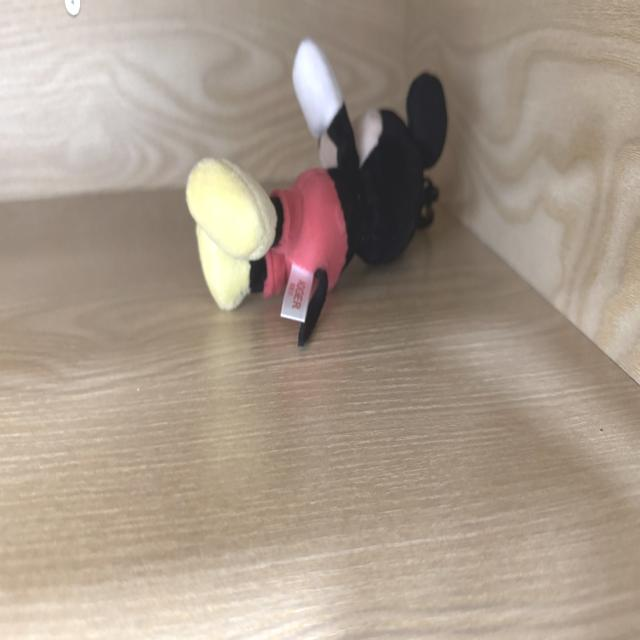mickey: (187, 40, 446, 345)
